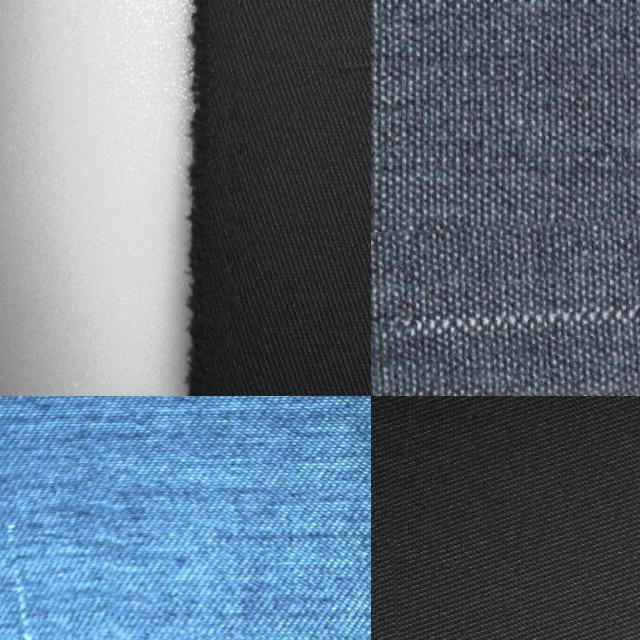Thread_other: (371, 214, 640, 396), (0, 463, 127, 640), (321, 33, 371, 109)
